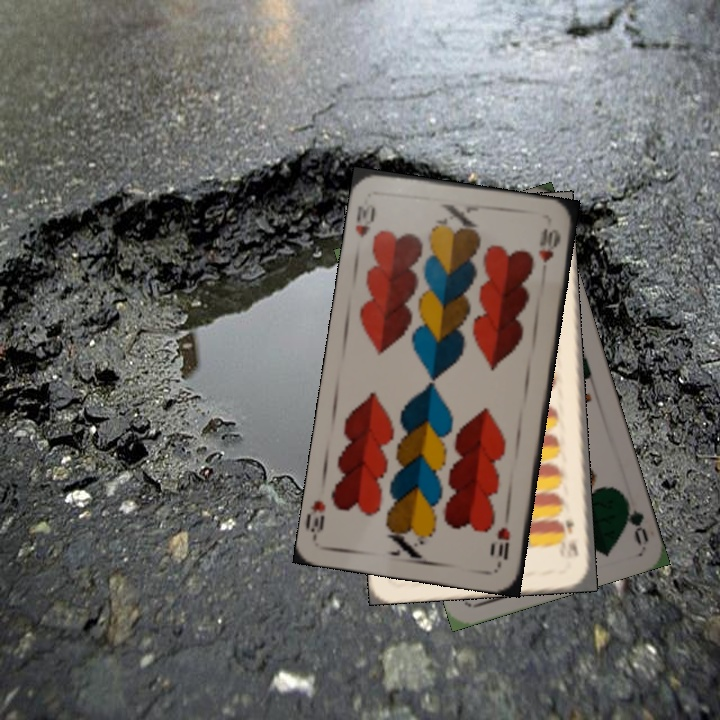E10: (557, 516, 581, 560)
GO: (617, 489, 651, 547)
H10: (351, 195, 378, 241), (493, 523, 513, 562)
